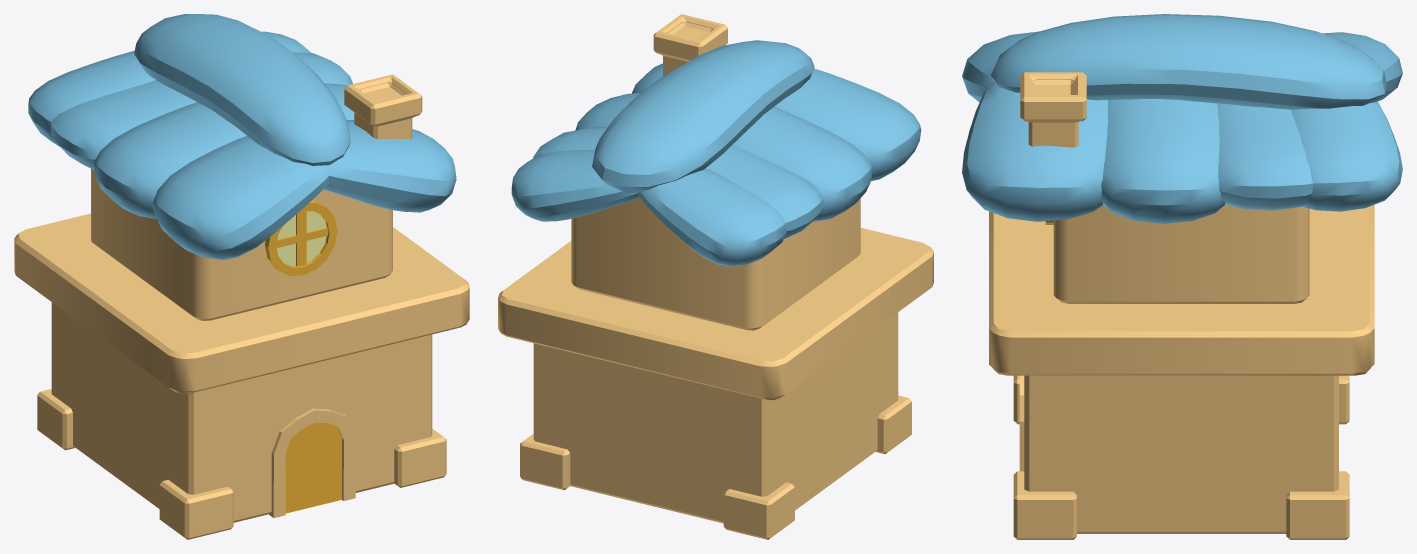
File: House.fbx
The picture shows the model from 3 angles, left to right: view 1: azimuth 30°, elevation 25°; view 2: azimuth 150°, elevation 25°; view 3: azimuth 270°, elevation 25°; orthographic projection. The views are drawn at different scales.
Parts seen in each view (by area): view 1: Cube, Cube.004, Cube.003, Cube.001, Cube.005, Cube.007, Cube.002, Cylinder, Cube.006; view 2: Cube, Cube.004, Cube.003, Cube.001, Cube.007; view 3: Cube, Cube.004, Cube.003, Cube.001, Cube.007, Cube.002.
Boxes of the visible parts, x1=… form: Cube: x1=14, y1=169, x2=469, y2=522; Cube.004: x1=28, y1=31, x2=456, y2=259; Cube.003: x1=134, y1=14, x2=350, y2=165; Cube.001: x1=37, y1=389, x2=446, y2=539; Cube.005: x1=285, y1=422, x2=341, y2=513; Cube.007: x1=344, y1=74, x2=422, y2=139; Cube.002: x1=269, y1=408, x2=355, y2=517; Cylinder: x1=265, y1=200, x2=337, y2=275; Cube.006: x1=276, y1=211, x2=328, y2=266; Cube: x1=498, y1=197, x2=933, y2=523; Cube.004: x1=511, y1=63, x2=921, y2=266; Cube.003: x1=592, y1=40, x2=814, y2=192; Cube.001: x1=520, y1=395, x2=911, y2=539; Cube.007: x1=653, y1=14, x2=727, y2=75; Cube: x1=989, y1=204, x2=1374, y2=533; Cube.004: x1=962, y1=31, x2=1402, y2=223; Cube.003: x1=991, y1=14, x2=1386, y2=109; Cube.001: x1=1013, y1=375, x2=1349, y2=539; Cube.007: x1=1020, y1=72, x2=1086, y2=147; Cube.002: x1=1019, y1=375, x2=1024, y2=471.
Bounding box in the file's own units: 104 × 134 × 119.
